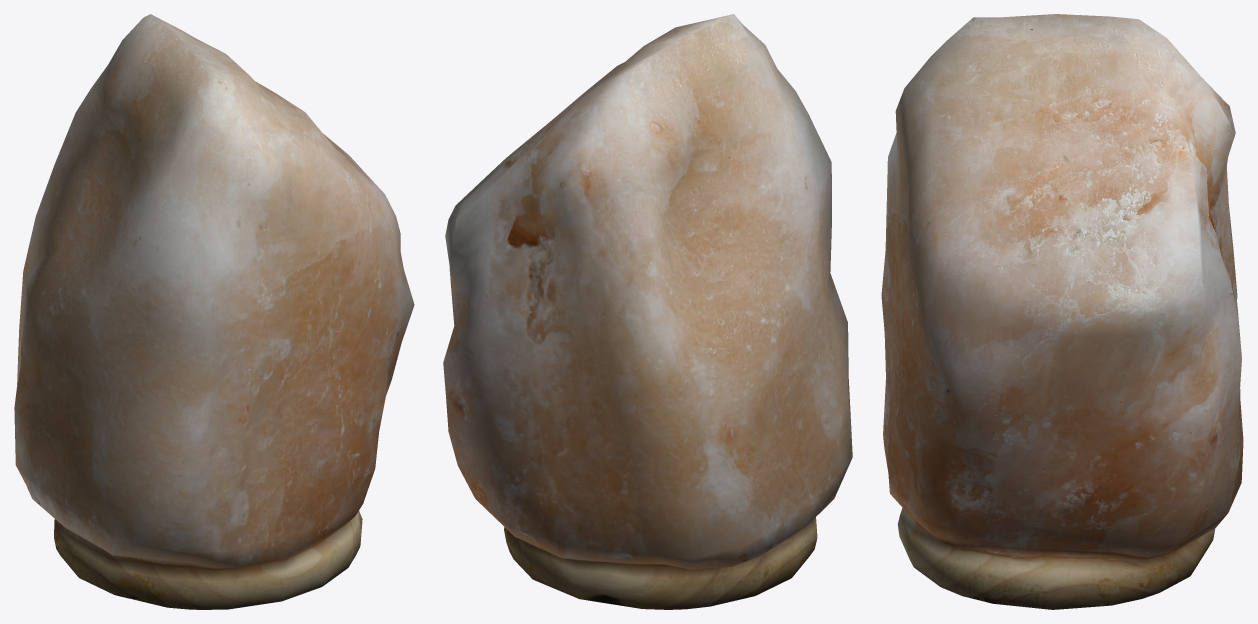
The model's file is Salt Rock Lamp.fbx.
3 renders of one model, left to right at view 1: azimuth 30°, elevation 25°; view 2: azimuth 150°, elevation 25°; view 3: azimuth 270°, elevation 25°, orthographic. The views are drawn at different scales.
Visible parts, largest first — view 1: Salt Rock Lamp; view 2: Salt Rock Lamp; view 3: Salt Rock Lamp.
Part boxes in pixels (box(x1,y1,x2,y2)): Salt Rock Lamp: box(14, 14, 414, 609); Salt Rock Lamp: box(443, 14, 852, 609); Salt Rock Lamp: box(881, 14, 1243, 609).
Size of the model in its own units: 20.78 by 31.68 by 19.97.
